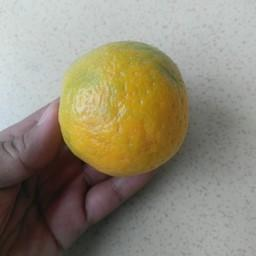Good_orange: (55, 36, 194, 180)
